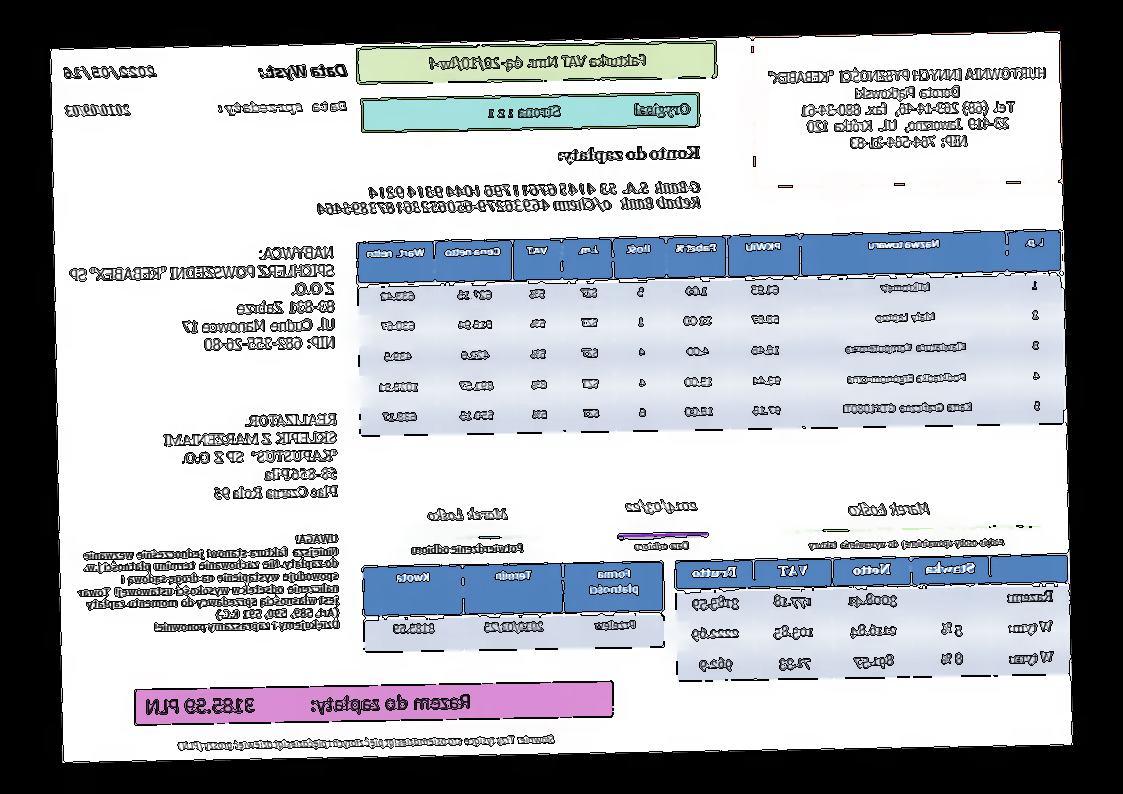Table: (356, 229, 1066, 437), (673, 553, 1071, 683), (361, 560, 666, 653)
TextBox: (67, 244, 339, 356), (75, 530, 343, 637), (765, 64, 1049, 155), (160, 410, 341, 503), (315, 178, 704, 219), (143, 690, 473, 720), (175, 731, 557, 755), (428, 50, 649, 73), (486, 100, 692, 121), (806, 534, 1008, 553), (555, 142, 704, 167), (217, 98, 350, 116), (63, 62, 160, 83), (255, 60, 350, 80), (408, 541, 526, 557), (846, 499, 931, 518), (622, 497, 701, 517), (426, 506, 510, 524), (65, 102, 133, 118), (633, 538, 692, 553)
